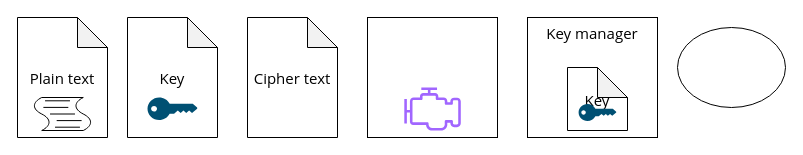
Some shapes in this 803 by 155 pixel diagram are drawn without their labels. The shapes that lost their labels are listed below. From the top down, each one's box as (x1, y1, x2, y2) in pixels, then its label:
(366, 16, 498, 138): Encryption engine
(676, 26, 786, 108): Control boundary
